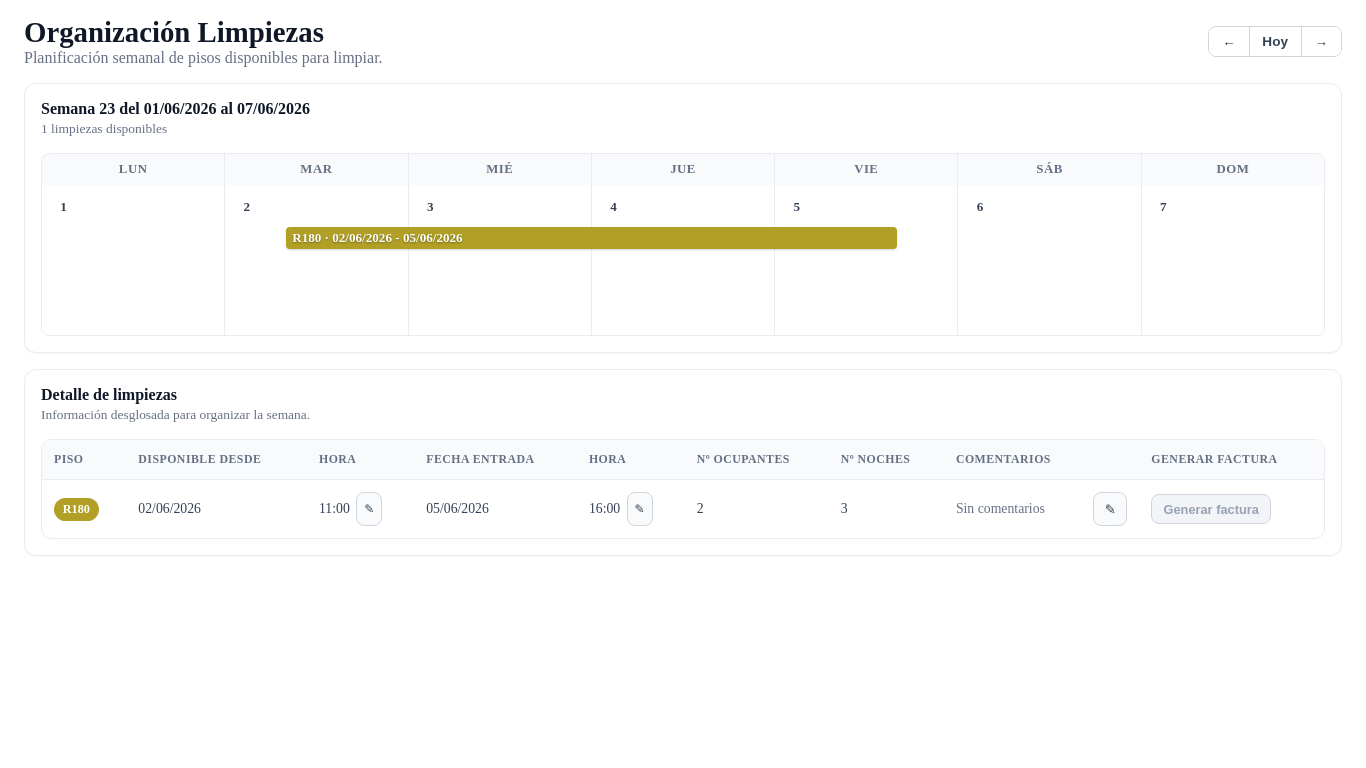
Test: CleaningOrganizationComponent › muestra toast de error si falla al guardar la hora
This screenshot has width=1366, height=768.
Step 1. Click the button with class "time-edit-btn" next to "11:00" → click(369, 509), box [356,492,382,526]
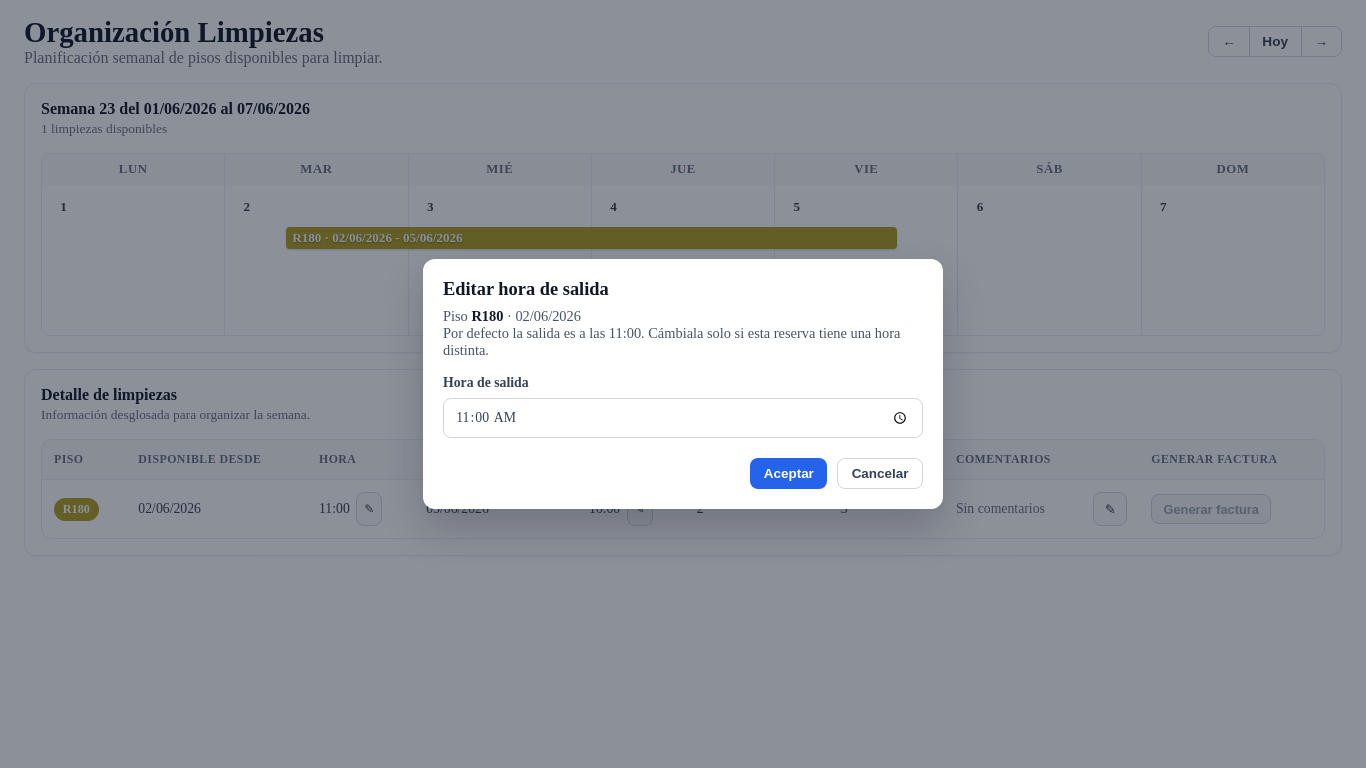
Step 2. Replace the text in the time field labelled "Hora de salida" with "13:30" → (683, 418), box [443,398,923,438]
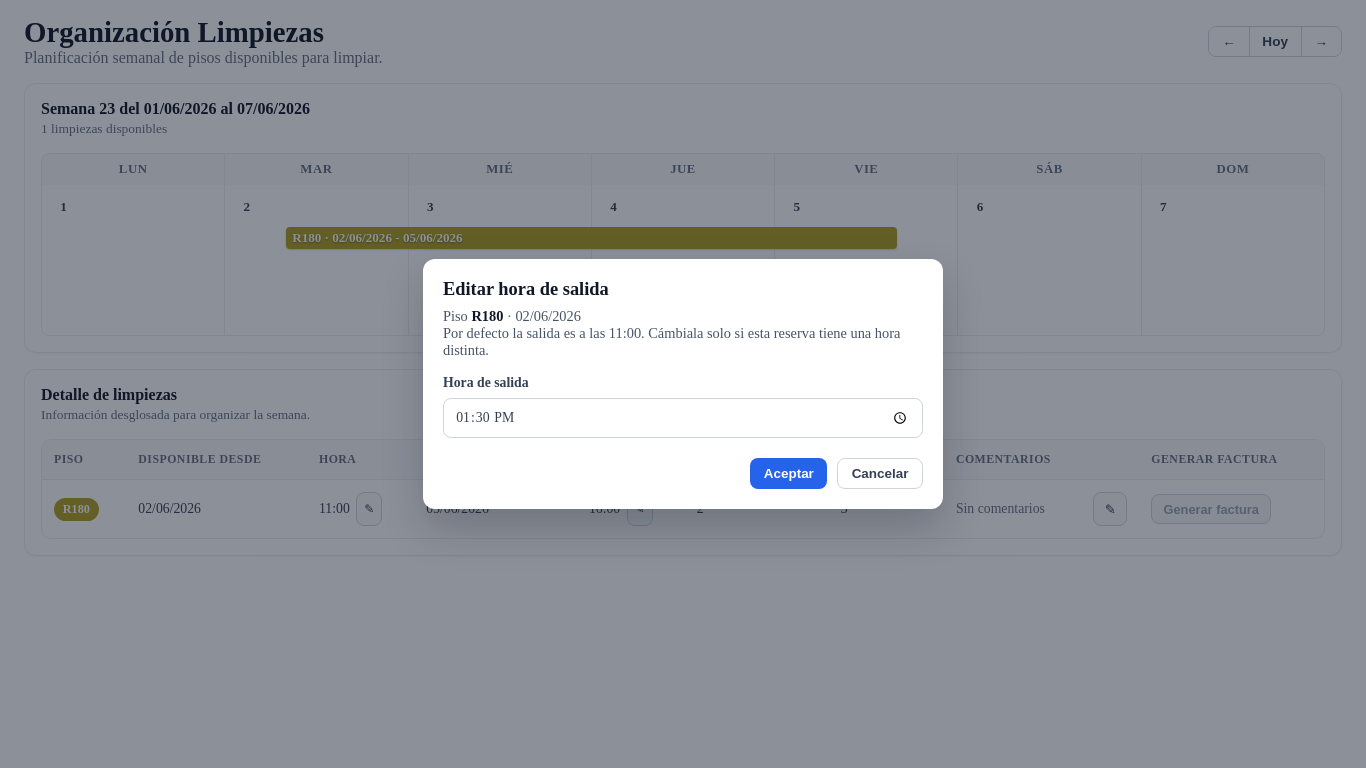
Step 3. Click the button "Aceptar" → click(789, 474), box [750,458,827,489]
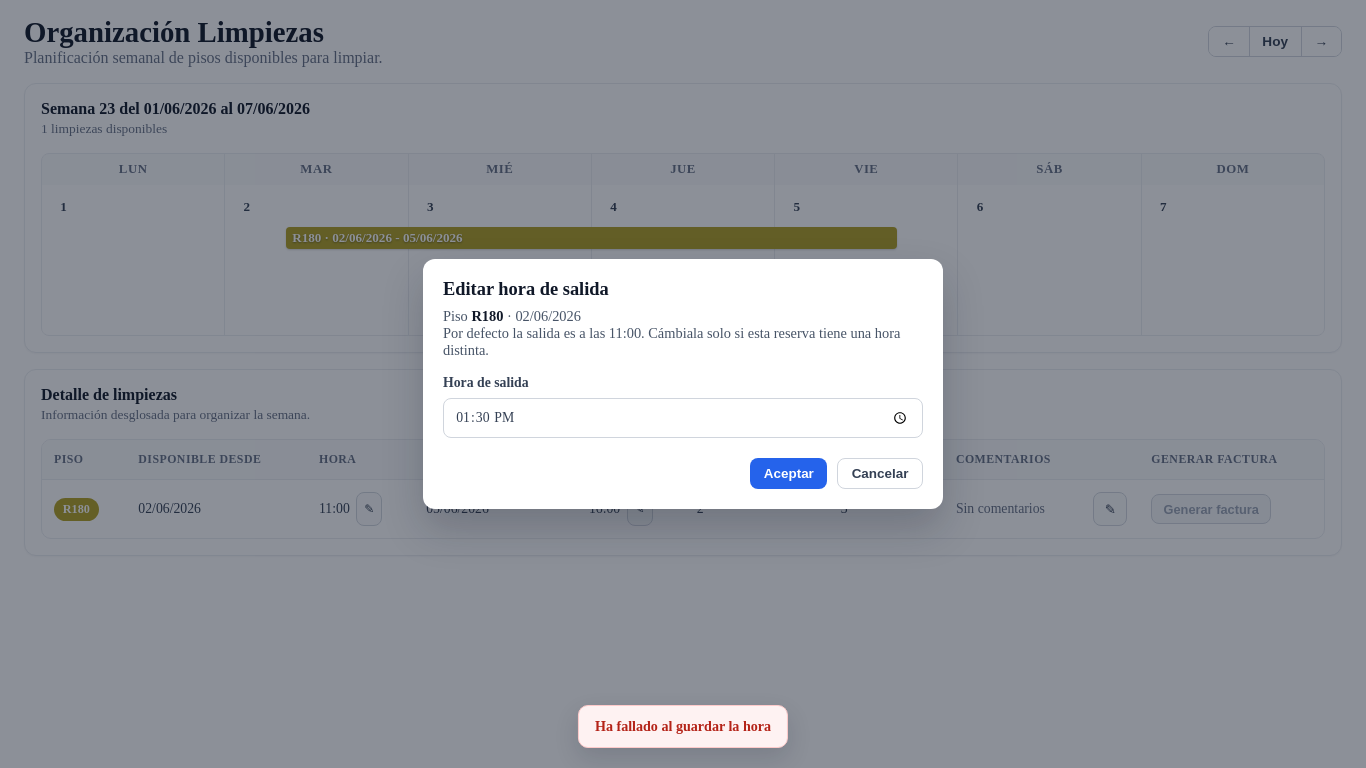
Expected: the text "Ha fallado al guardar la hora" is shown, [578,705,788,748]
